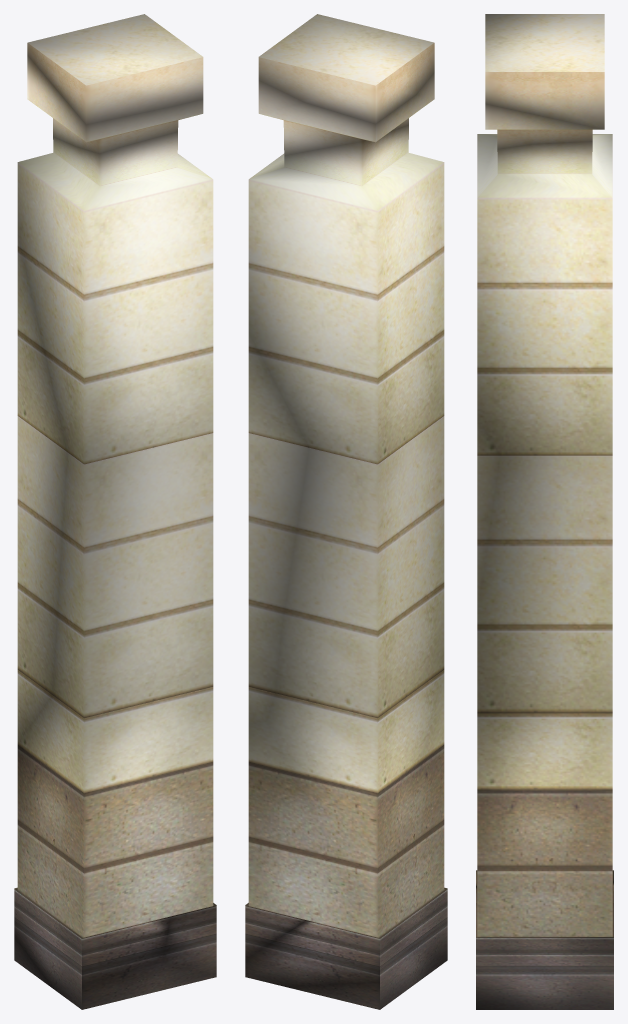
Rendered from a_SEwalls02_a.glb.
3 renders of one model, left to right at view 1: azimuth 30°, elevation 25°; view 2: azimuth 150°, elevation 25°; view 3: azimuth 270°, elevation 25°, orthographic.
Visible parts, largest first — view 1: a_SEwalls02_a; view 2: a_SEwalls02_a; view 3: a_SEwalls02_a.
Boxes of the visible parts, x1,y1,x2,y2 form: a_SEwalls02_a: (14,14,216,1009); a_SEwalls02_a: (245,14,447,1009); a_SEwalls02_a: (476,14,613,1009).
Size of the model in its own units: 1.15 by 7.49 by 1.
1 material, 1 textured.
